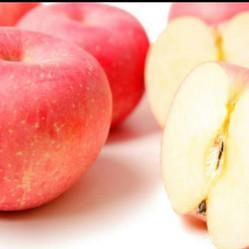apple: (1, 23, 122, 213), (15, 5, 152, 135), (155, 61, 249, 249)
